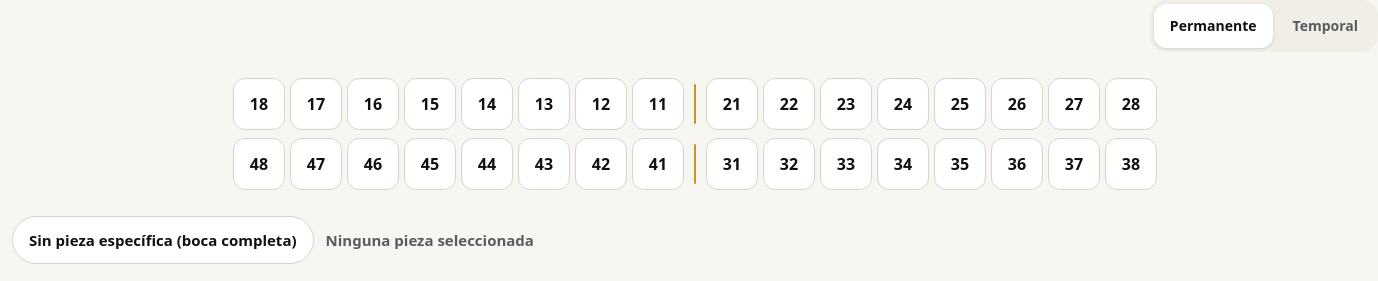
ToothPicker › boca completa limpia las piezas
The width and height of the screenshot is (1378, 281).
Click the button named "Pieza 46" at (373, 164), box [347,138,399,190]
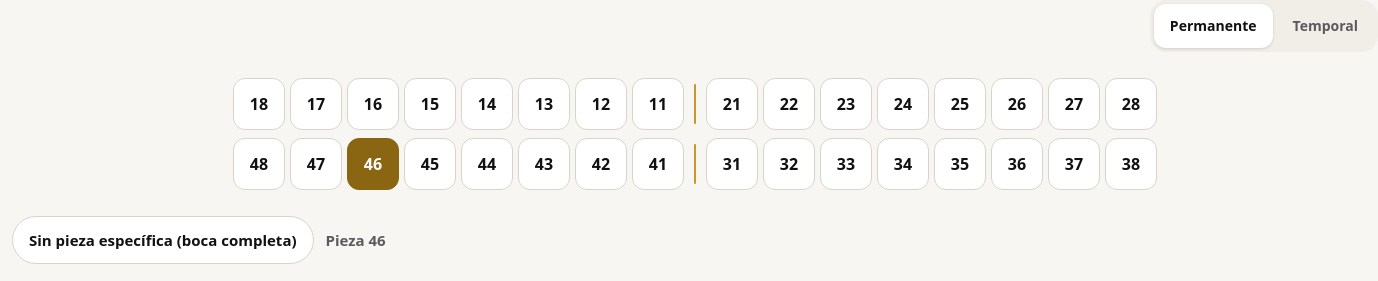
Click the button "Sin pieza específica (boca completa)" at (163, 240), box [12,216,314,264]
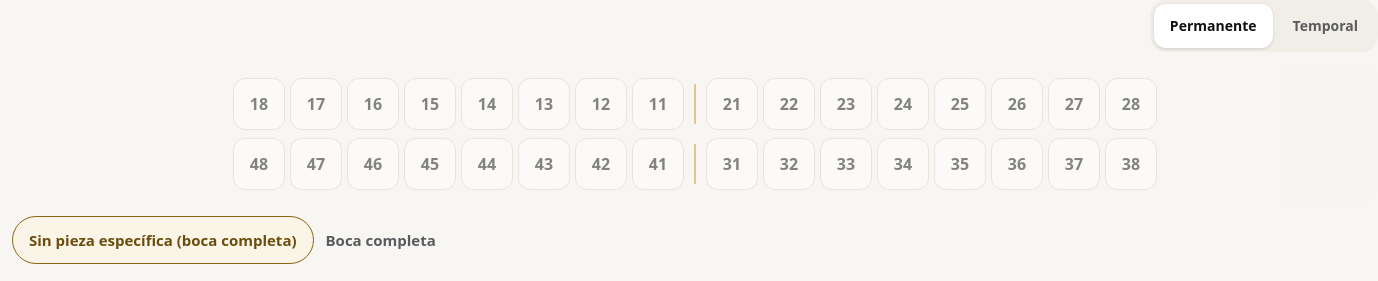
Expected: the text "Boca completa" is shown, [326,229,436,251]
